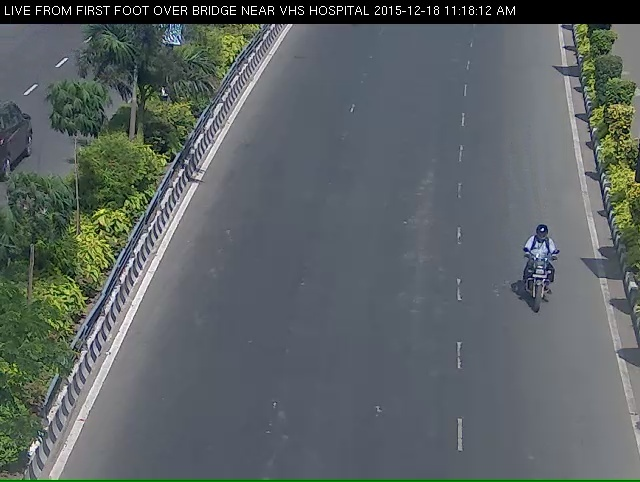Person: (523, 236, 561, 337)
